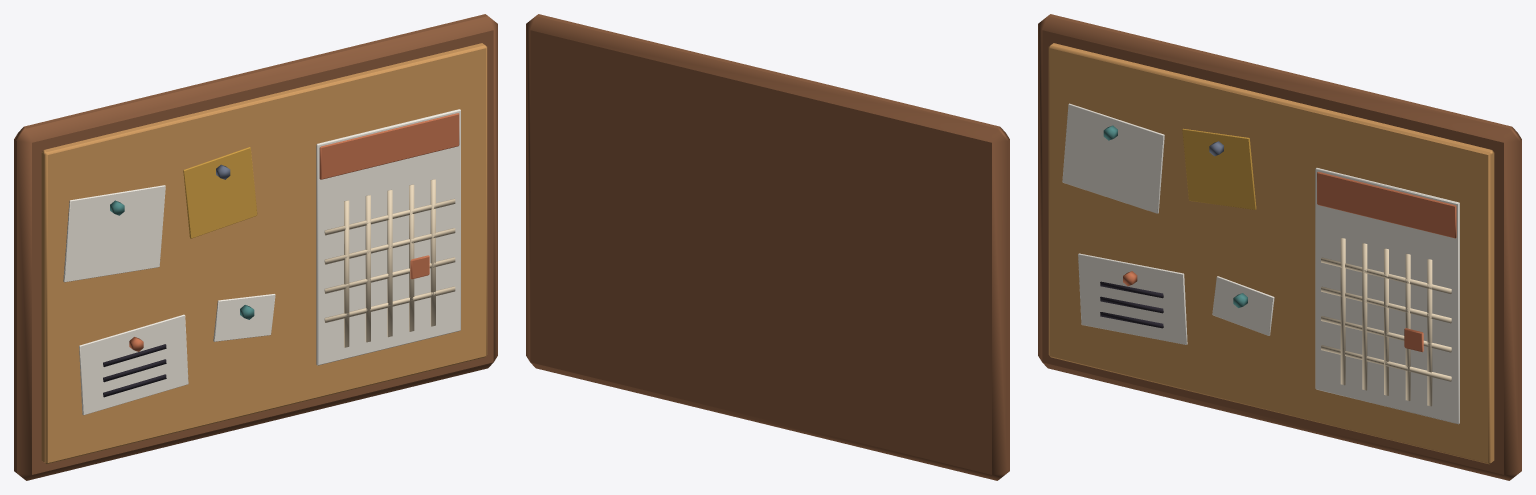
Rendered from era_corkboard.glb.
3 renders of one model, left to right at view 1: azimuth 30°, elevation 25°; view 2: azimuth 150°, elevation 25°; view 3: azimuth 330°, elevation 25°, orthographic.
Parts seen in each view (by area): view 1: era_corkboard; view 2: era_corkboard; view 3: era_corkboard.
Part boxes in pixels (box(x1,y1,x2,y2)): era_corkboard: box(14, 14, 497, 480); era_corkboard: box(526, 14, 1009, 480); era_corkboard: box(1038, 14, 1521, 480).
Bounding box in the file's own units: 1 × 0.7 × 0.088.
